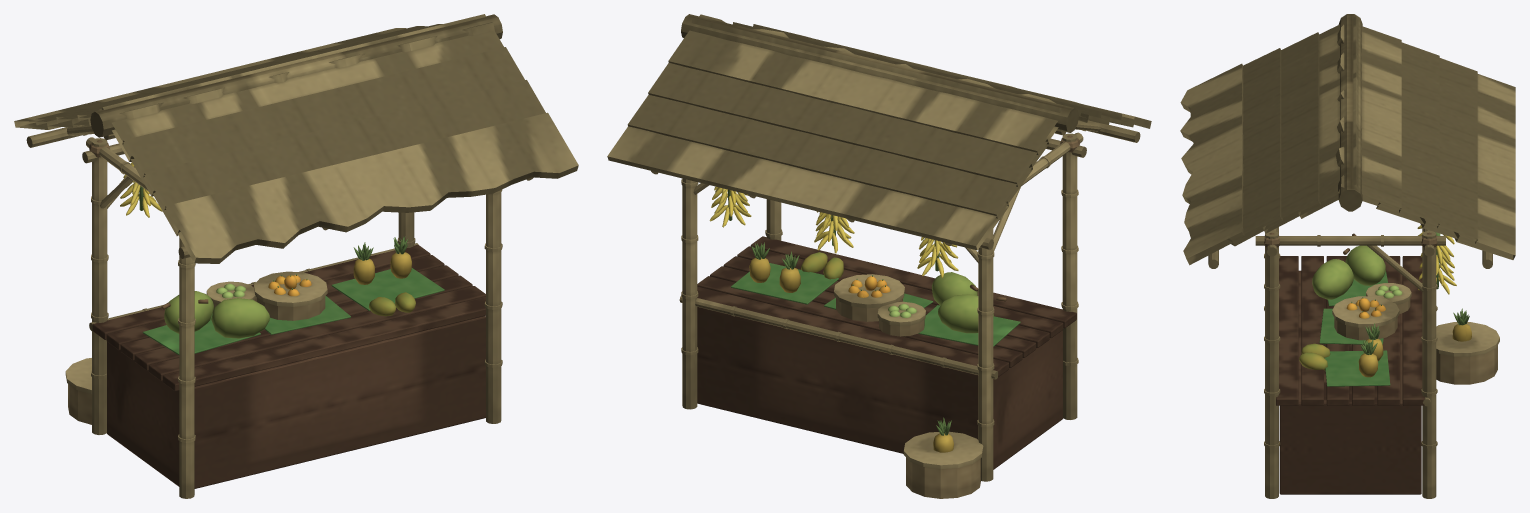
File: market_stall_banana.glb
3 views of the same model, side by side, from view 1: azimuth 30°, elevation 25°; view 2: azimuth 150°, elevation 25°; view 3: azimuth 270°, elevation 25° (orthographic). The views are drawn at different scales.
Parts seen in each view (by area): view 1: Counter_Base, Ola_Back_0, Ola_Back_1, Ola_Back_2, Ola_Back_3, Counter_Plank_0, Ola_Ridge_Cap, Counter_Plank_1, Bamboo_Pillar_2, Bamboo_Pillar_0, Bamboo_Pillar_1, Leaf_Mat_R (+20 smaller); view 2: Counter_Base, Ola_Front_0, Ola_Front_3, Ola_Front_1, Ola_Front_2, Ola_Ridge_Cap, Bamboo_Pillar_0, Counter_Plank_5, Bamboo_Pillar_3, Bamboo_Pillar_2, Counter_Plank_0, Counter_Plank_4 (+22 smaller); view 3: Counter_Base, Ola_Back_0, Ola_Front_3, Ola_Front_0, Ola_Back_2, Ola_Front_1, Ola_Front_2, Ola_Back_1, Ola_Back_3, Bamboo_Pillar_3, Bamboo_Pillar_1, Ola_Ridge_Cap (+22 smaller).
Part boxes in pixels (left/top/right/bottom): Counter_Base: left=107, top=316, right=485, bottom=488; Ola_Back_0: left=164, top=112, right=578, bottom=263; Ola_Back_1: left=143, top=80, right=545, bottom=235; Ola_Back_2: left=122, top=47, right=524, bottom=196; Ola_Back_3: left=101, top=14, right=503, bottom=161; Counter_Plank_0: left=162, top=296, right=485, bottom=391; Ola_Ridge_Cap: left=90, top=14, right=502, bottom=137; Counter_Plank_1: left=148, top=286, right=485, bottom=380; Bamboo_Pillar_2: left=92, top=138, right=107, bottom=434; Bamboo_Pillar_0: left=179, top=237, right=194, bottom=498; Bamboo_Pillar_1: left=486, top=192, right=501, bottom=423; Leaf_Mat_R: left=331, top=268, right=444, bottom=310; Counter_Base: left=697, top=307, right=1062, bottom=469; Ola_Front_0: left=607, top=126, right=1008, bottom=250; Ola_Front_3: left=668, top=14, right=1058, bottom=155; Ola_Front_1: left=627, top=95, right=1032, bottom=218; Ola_Front_2: left=648, top=63, right=1048, bottom=186; Ola_Ridge_Cap: left=681, top=14, right=1078, bottom=132; Bamboo_Pillar_0: left=1062, top=133, right=1077, bottom=419; Counter_Plank_5: left=697, top=286, right=1008, bottom=376; Bamboo_Pillar_3: left=682, top=178, right=697, bottom=409; Bamboo_Pillar_2: left=978, top=229, right=993, bottom=481; Counter_Plank_0: left=750, top=236, right=1076, bottom=328; Counter_Plank_4: left=697, top=276, right=1022, bottom=367; Counter_Base: left=1279, top=270, right=1421, bottom=494; Ola_Back_0: left=1180, top=63, right=1244, bottom=265; Ola_Front_3: left=1335, top=24, right=1401, bottom=212; Ola_Front_0: left=1454, top=74, right=1515, bottom=259; Ola_Back_2: left=1262, top=32, right=1320, bottom=233; Ola_Front_1: left=1420, top=58, right=1477, bottom=244; Ola_Front_2: left=1376, top=42, right=1439, bottom=228; Ola_Back_1: left=1227, top=48, right=1282, bottom=246; Ola_Back_3: left=1298, top=16, right=1358, bottom=218; Bamboo_Pillar_3: left=1422, top=231, right=1436, bottom=498; Bamboo_Pillar_1: left=1265, top=231, right=1278, bottom=498; Ola_Ridge_Cap: left=1338, top=14, right=1362, bottom=210.
Bounding box in the file's own units: 3.28 × 2.85 × 2.64.
1 material, 1 textured.
